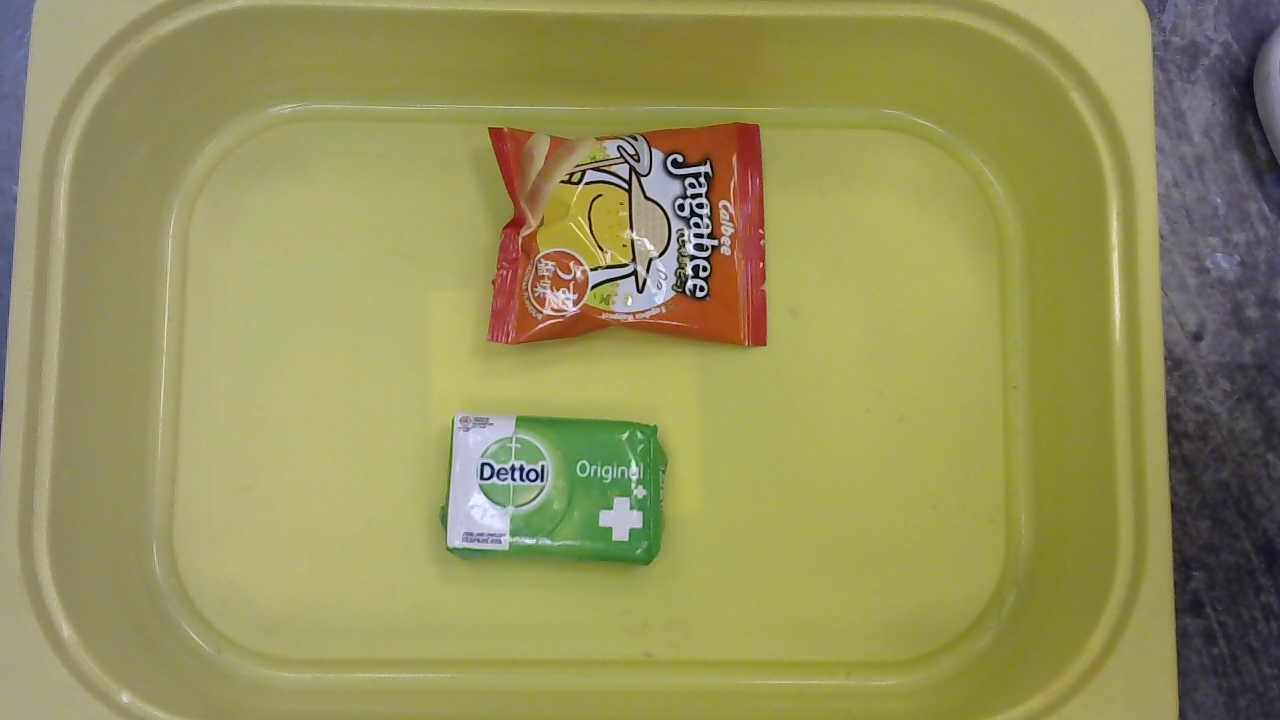Dettol: (436, 409, 674, 572)
JagabeeFarmer: (481, 118, 774, 356)
